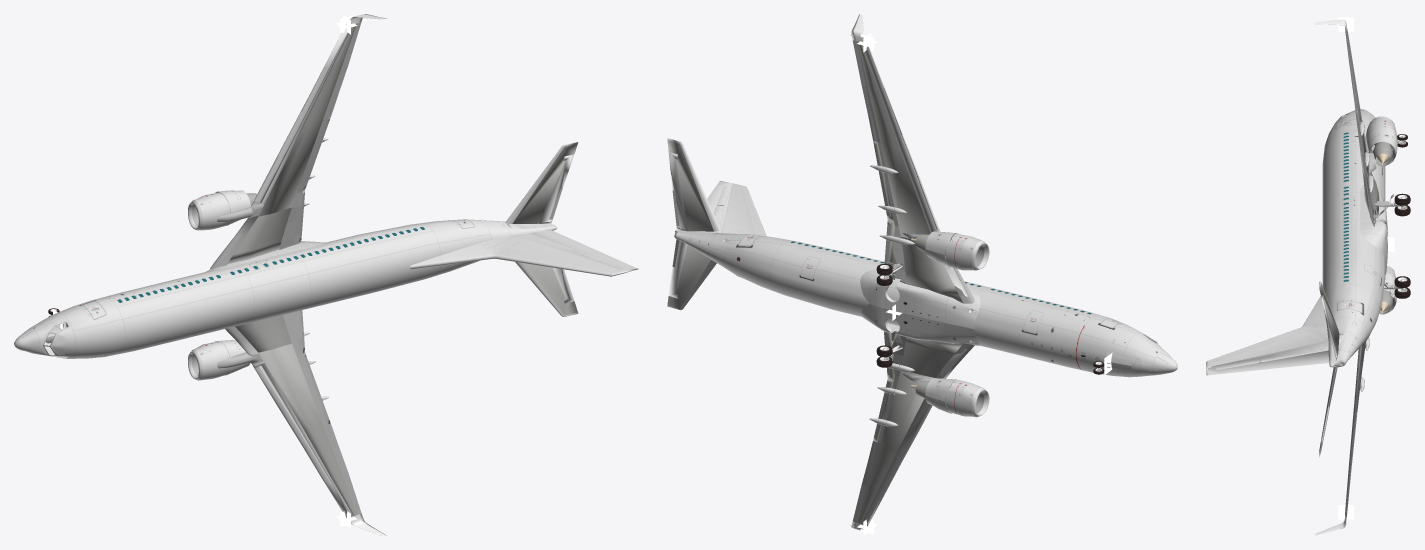
The picture shows the model from 3 angles, left to right: view 1: azimuth 30°, elevation 25°; view 2: azimuth 150°, elevation 25°; view 3: azimuth 270°, elevation 25°; orthographic projection. The views are drawn at different scales.
Visible parts, largest first — view 1: fuselage, obwing, vstab, obwing.001, rhstab, winginbd.001, winginbd, lhstab, vstable, engnose.001, No2engfancase, rudder (+1 smaller); view 2: fuselage, obwing.001, rhwtobfairing, obwing, lhfairing, rhstab, vstab, winginbd.001, winginbd, lhstab, rhoble, oble (+6 smaller); view 3: fuselage, vstab, rudder, rhwtobfairing, No2reverser, windowsrh, obwing.001, obwing, winginbd.001, rhstab, No2engfancase, WingletL (+1 smaller).
Part boxes in pixels (x1,y1,x2,y2): fuselage: [14, 219, 557, 358]; obwing: [259, 343, 356, 515]; vstab: [413, 233, 638, 276]; obwing.001: [258, 24, 356, 216]; rhstab: [505, 142, 578, 223]; winginbd.001: [227, 207, 291, 263]; winginbd: [235, 315, 291, 352]; lhstab: [515, 262, 578, 316]; vstable: [410, 254, 611, 276]; engnose.001: [192, 341, 230, 380]; No2engfancase: [193, 192, 230, 230]; rudder: [530, 230, 637, 270]; fuselage: [675, 230, 1177, 377]; obwing.001: [858, 42, 930, 238]; rhwtobfairing: [860, 269, 980, 329]; obwing: [858, 371, 933, 523]; lhfairing: [860, 303, 980, 345]; rhstab: [667, 138, 720, 231]; vstab: [707, 181, 765, 236]; winginbd.001: [901, 236, 962, 303]; winginbd: [902, 337, 962, 377]; lhstab: [667, 245, 716, 310]; rhoble: [854, 40, 940, 232]; oble: [855, 398, 929, 525]; fuselage: [1322, 109, 1385, 367]; vstab: [1206, 296, 1328, 375]; rudder: [1207, 350, 1328, 375]; rhwtobfairing: [1360, 185, 1387, 257]; No2reverser: [1367, 127, 1397, 165]; windowsrh: [1343, 132, 1348, 281]; obwing.001: [1345, 29, 1368, 178]; obwing: [1345, 346, 1361, 515]; winginbd.001: [1362, 167, 1379, 215]; rhstab: [1319, 281, 1339, 352]; No2engfancase: [1365, 116, 1397, 140]; WingletL: [1315, 19, 1346, 535].
Bounding box in the file's own units: 39.42 × 35.69 × 12.93.
21 materials, 3 textured.
